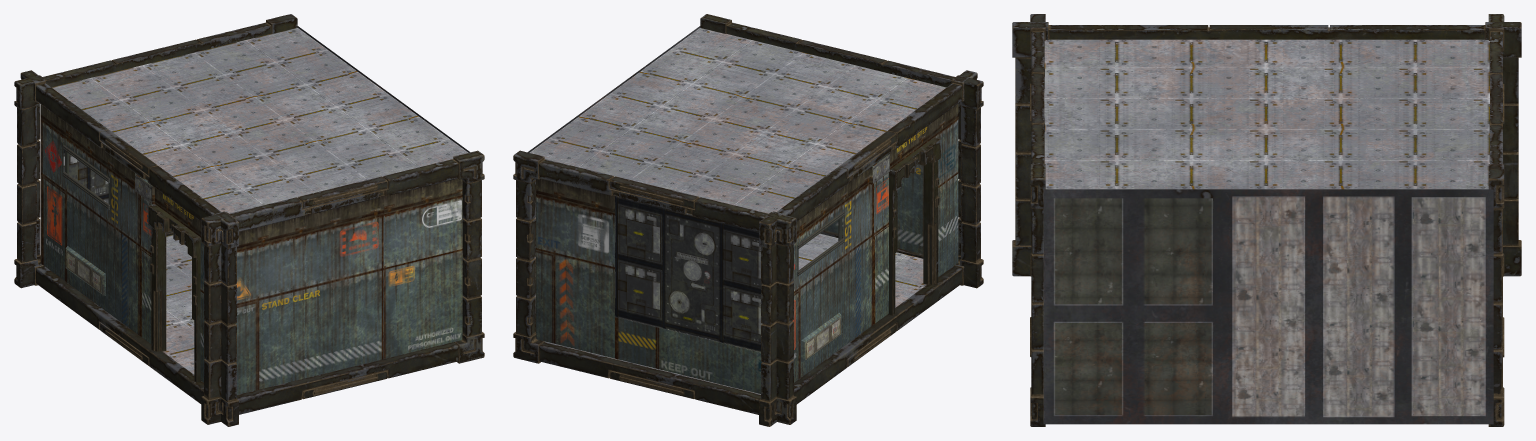
The model's file is SM_Smaller_Door_Window_Shipping_Container_Unit.fbx.
3 views of the same model, side by side, from view 1: azimuth 30°, elevation 25°; view 2: azimuth 150°, elevation 25°; view 3: azimuth 270°, elevation 25° (orthographic). The views are drawn at different scales.
Visible parts, largest first — view 1: SM_Smaller_Door_Window_Shipping_Container_Unit_LOD0; view 2: SM_Smaller_Door_Window_Shipping_Container_Unit_LOD0; view 3: SM_Smaller_Door_Window_Shipping_Container_Unit_LOD0.
Part boxes in pixels (<box>): SM_Smaller_Door_Window_Shipping_Container_Unit_LOD0: <box>14,14,484,426</box>; SM_Smaller_Door_Window_Shipping_Container_Unit_LOD0: <box>513,14,983,426</box>; SM_Smaller_Door_Window_Shipping_Container_Unit_LOD0: <box>1012,14,1521,426</box>.
Size of the model in its own units: 418 by 543 by 292.
Materials: 5 (5 with a texture image).
